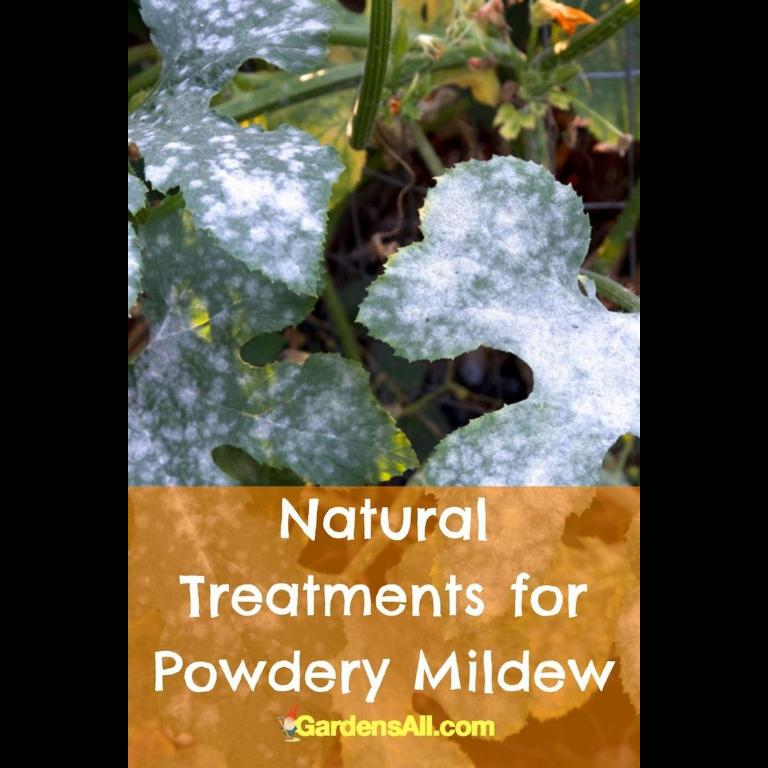powdery-mildew: (445, 196, 557, 324), (212, 140, 310, 246), (548, 334, 638, 433), (159, 350, 231, 434)
